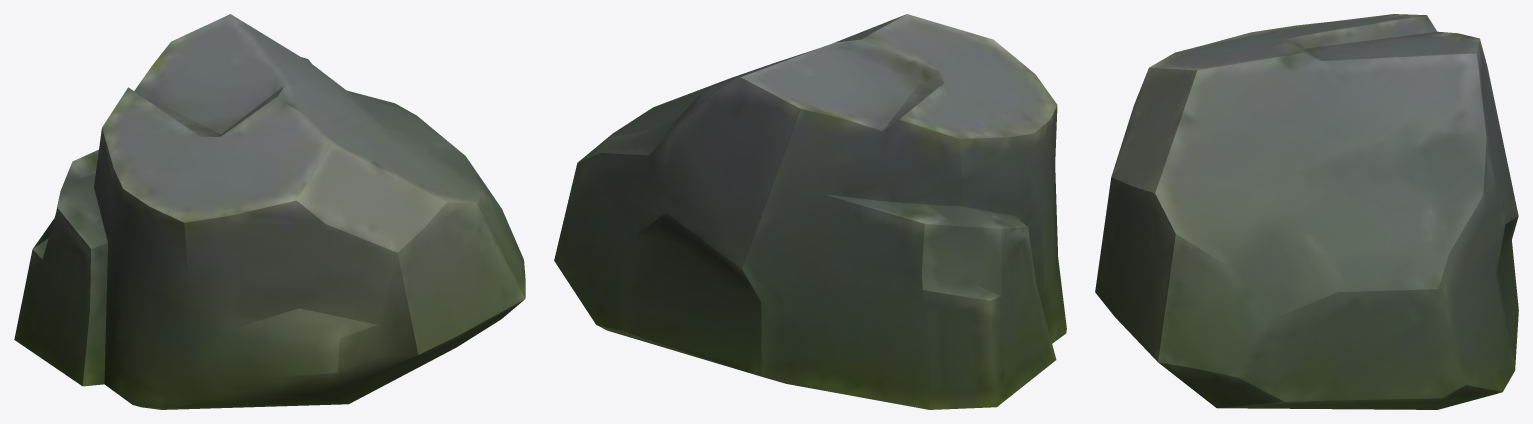
File: rock-2.glb
3 renders of one model, left to right at view 1: azimuth 30°, elevation 25°; view 2: azimuth 150°, elevation 25°; view 3: azimuth 270°, elevation 25°, orthographic. The views are drawn at different scales.
Parts seen in each view (by area): view 1: Rock_Medium_2; view 2: Rock_Medium_2; view 3: Rock_Medium_2.
Boxes of the visible parts, <box> form: Rock_Medium_2: <box>14,14,525,409</box>; Rock_Medium_2: <box>554,14,1066,409</box>; Rock_Medium_2: <box>1095,14,1518,409</box>.
Size of the model in its own units: 3.05 by 1.9 by 2.48.
1 material, 1 textured.
